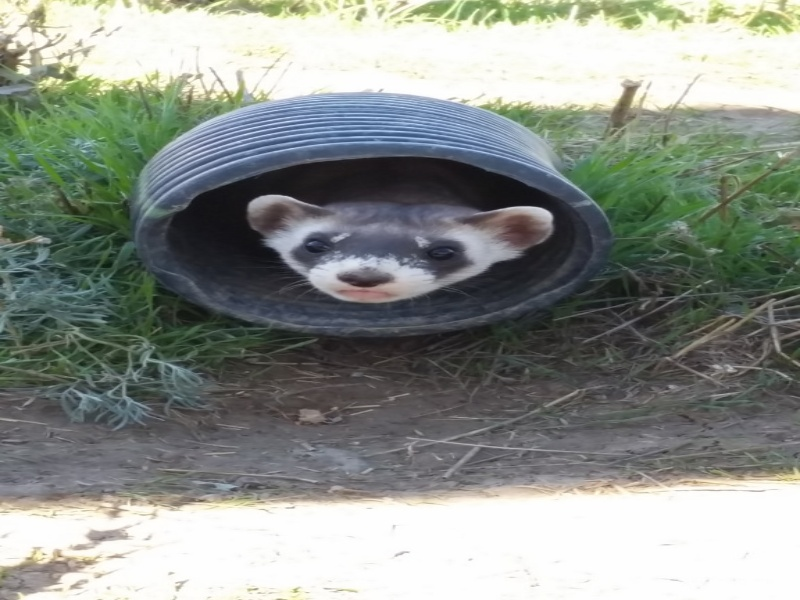minkish: (227, 158, 554, 322)
